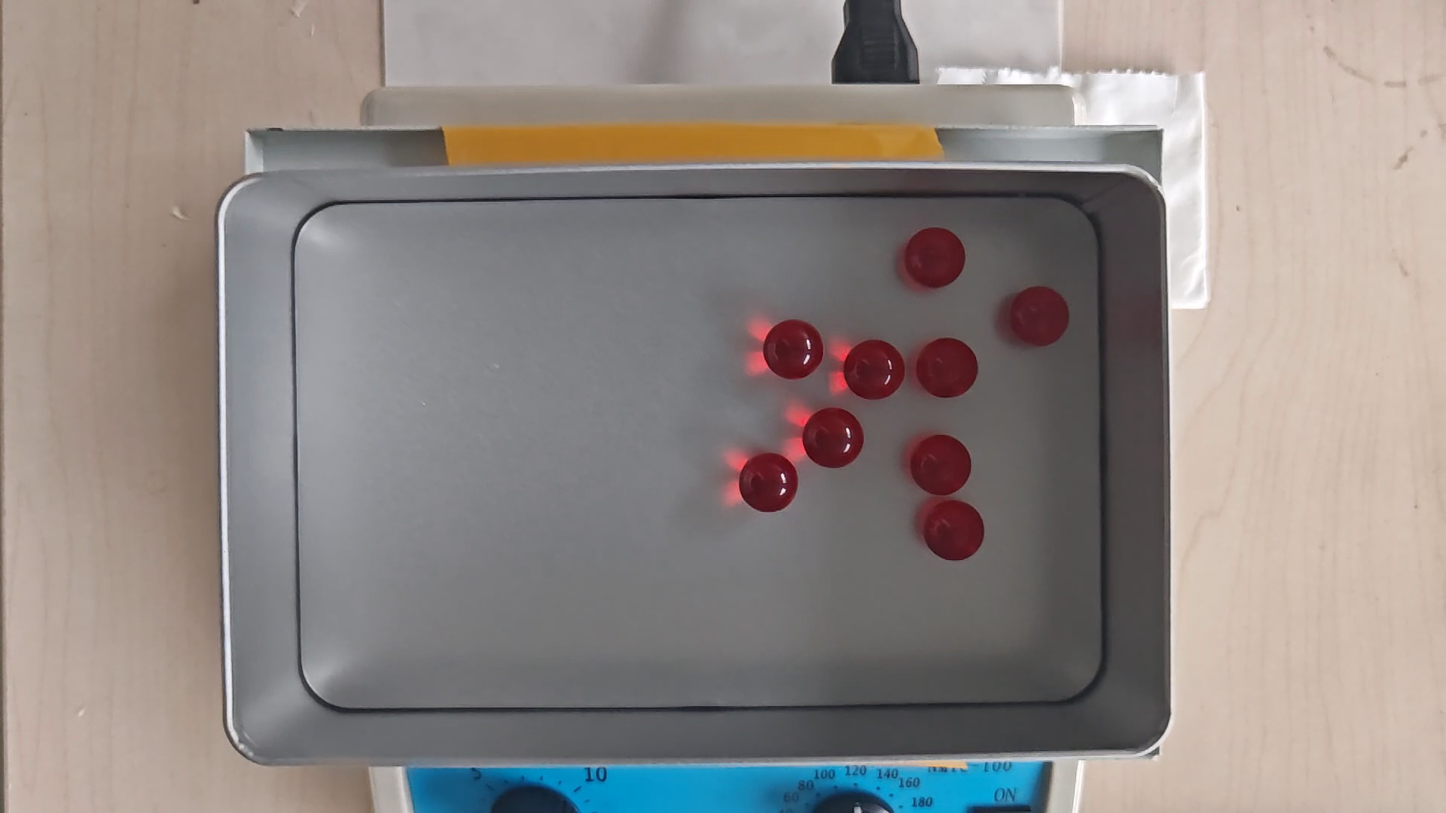ball: (842, 338, 905, 403), (923, 498, 985, 563), (802, 406, 865, 469), (916, 336, 978, 399), (1008, 285, 1070, 347), (764, 318, 825, 381), (910, 434, 972, 495), (904, 227, 965, 289), (739, 453, 800, 512)
container: (294, 199, 1103, 704)
